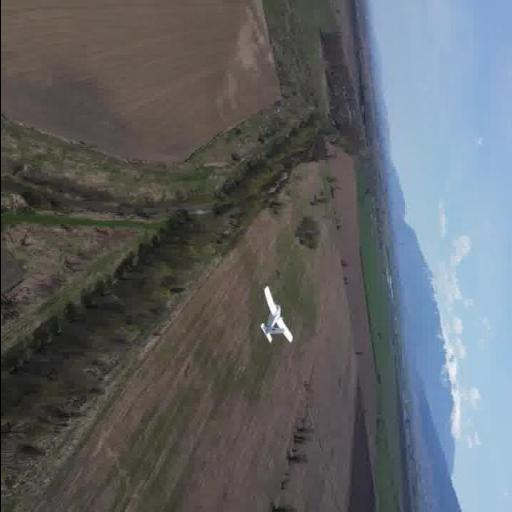uav: (247, 282, 297, 346)
